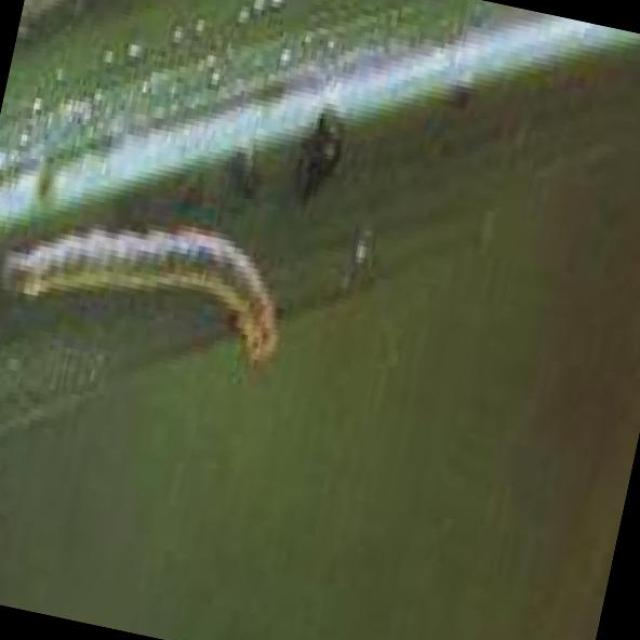leaf folder: (2, 227, 278, 363)
